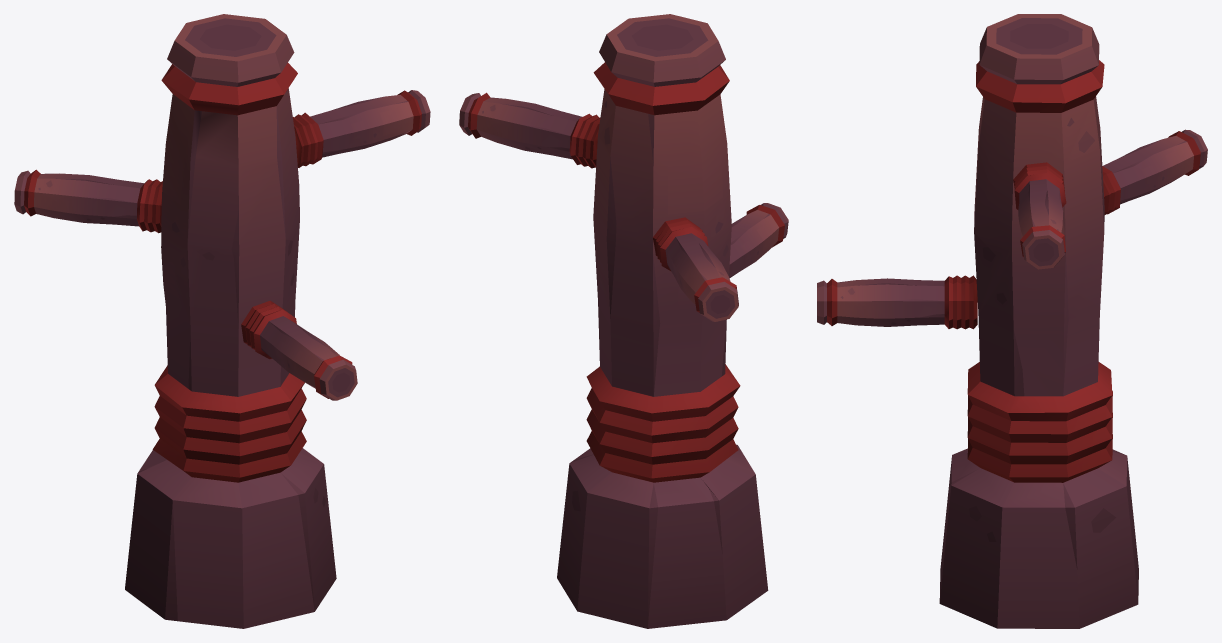
File: fighting_post.glb
3 views of the same model, side by side, from view 1: azimuth 30°, elevation 25°; view 2: azimuth 150°, elevation 25°; view 3: azimuth 270°, elevation 25° (orthographic).
Visible parts, largest first — view 1: fighting_post; view 2: fighting_post; view 3: fighting_post.
Part boxes in pixels (x1,y1,x2,y2): fighting_post: (14, 14, 430, 628); fighting_post: (459, 14, 788, 628); fighting_post: (817, 14, 1207, 628).
Size of the model in its own units: 1.28 by 1.97 by 1.27.
Materials: 1 (1 with a texture image).
